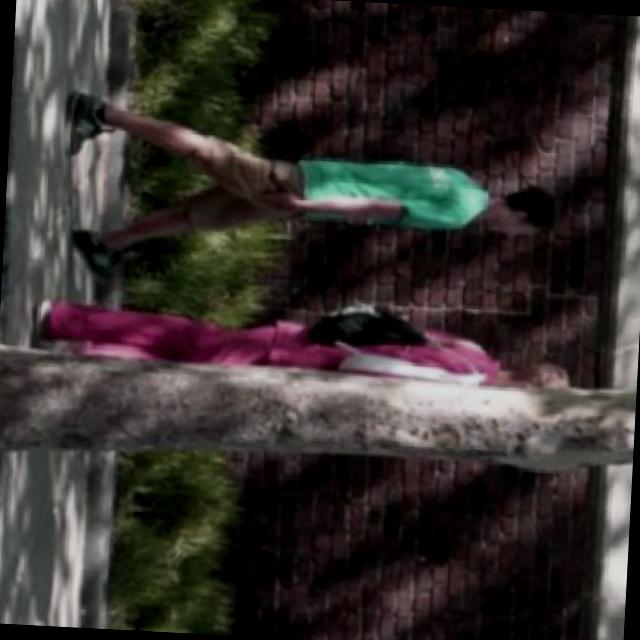Person: (50, 88, 565, 308), (17, 294, 576, 396)
